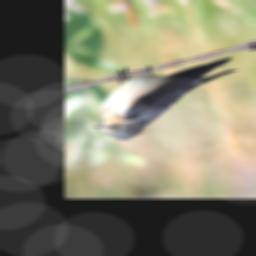Swallow: (91, 53, 238, 142)
